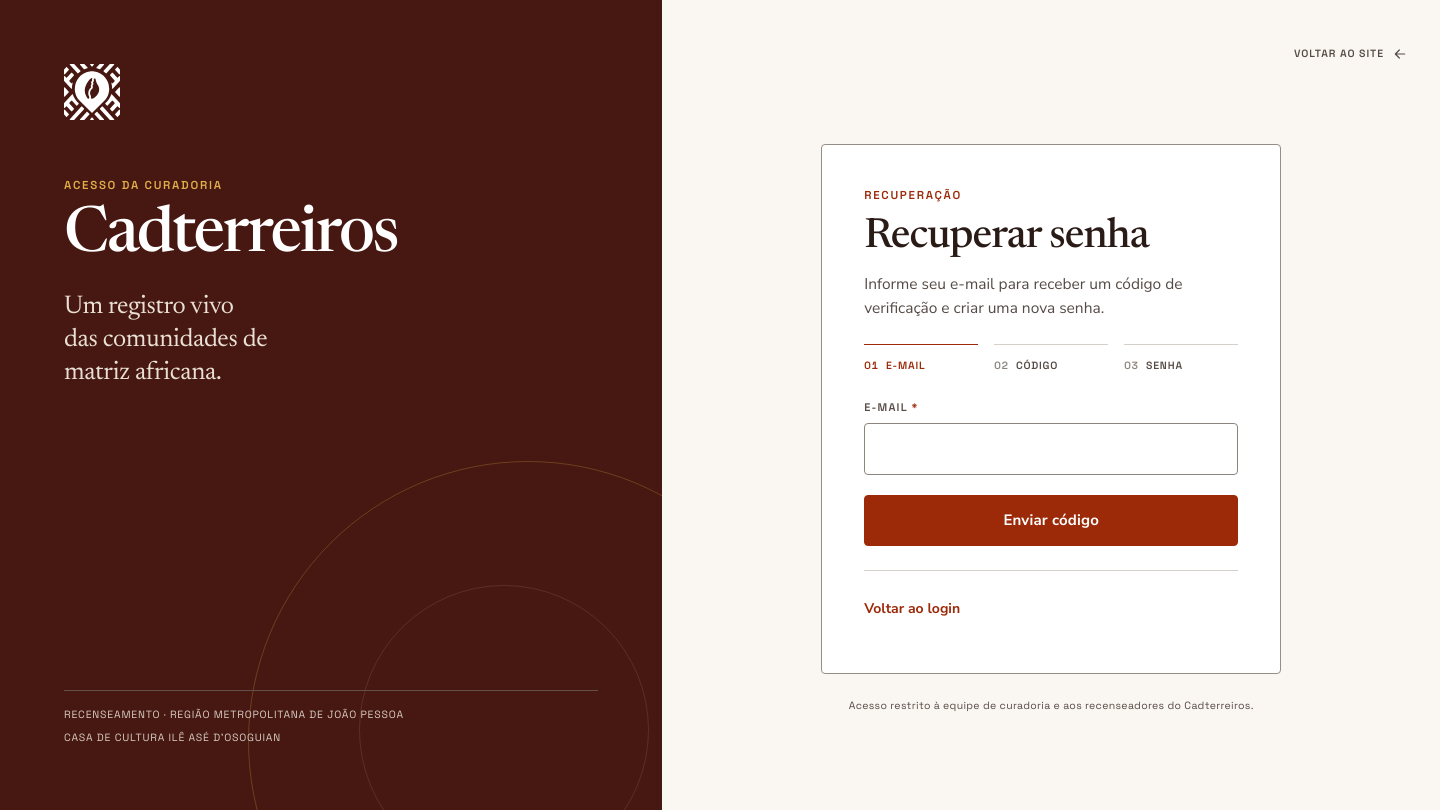
ForgotPassword › usa mensagem genérica na recusa (não revela se o e-mail existe)
Type "curadoria@cciao.org" into the field labelled "E-mail *". click: [1051, 449]
box: [864,423,1238,475]
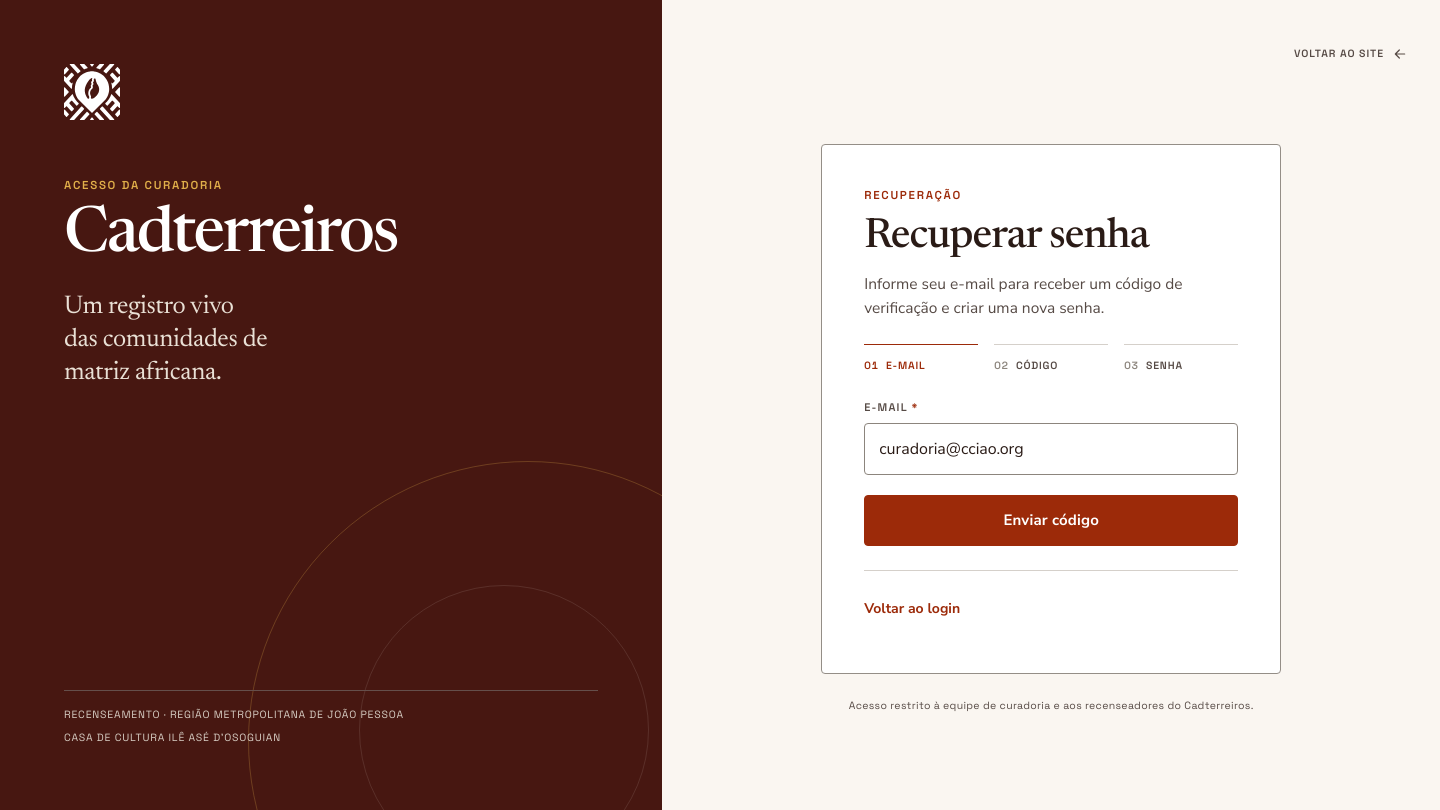
Click the button "Enviar código". click: [1051, 521]
box: [864,495,1238,546]
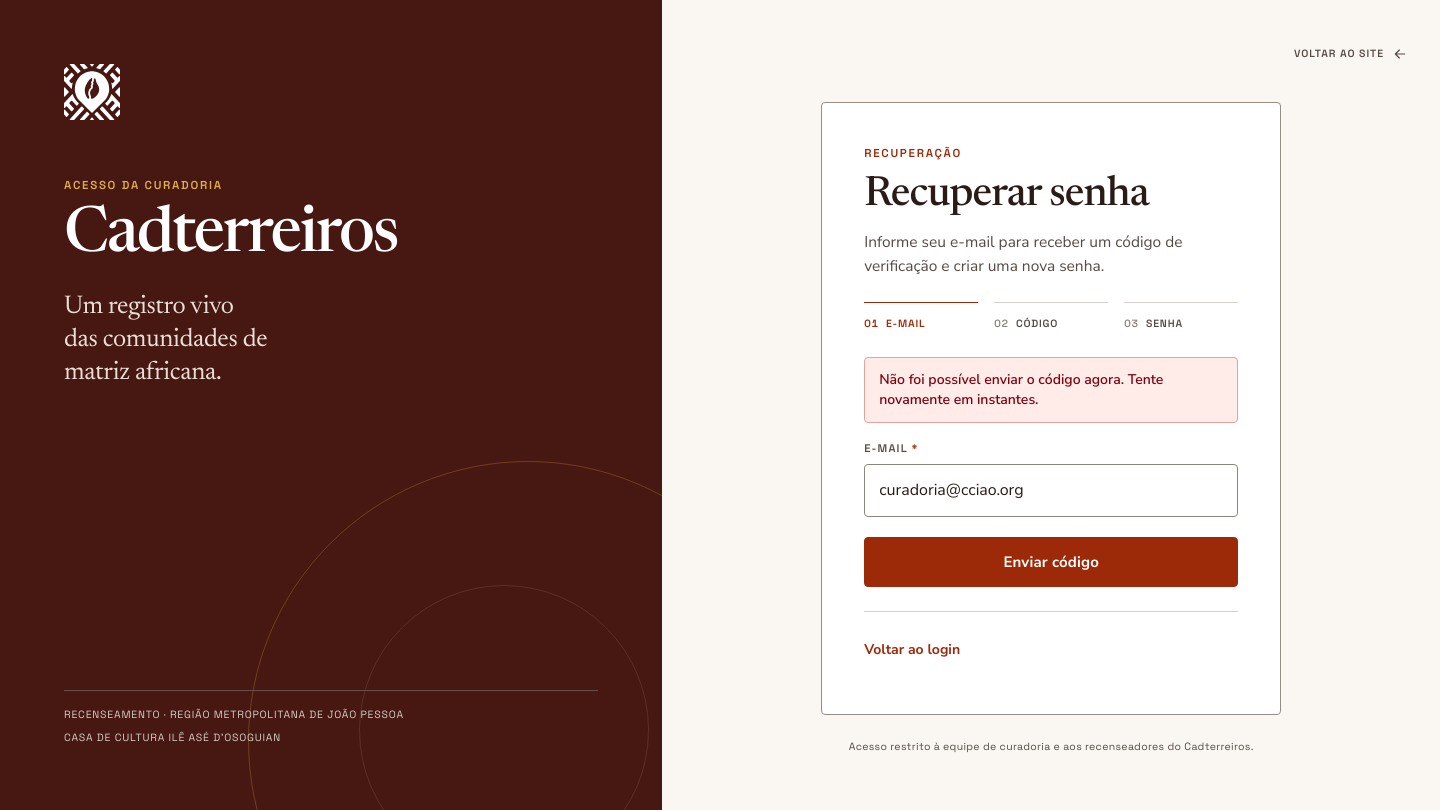
expect the message reads "Não foi possível enviar o código agora. Tente novamente em instantes.": met, box [879,370,1163,409]
